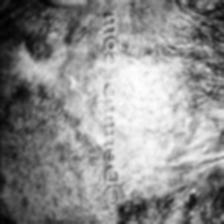Unclassified: (163, 75, 224, 222), (0, 14, 38, 133)
